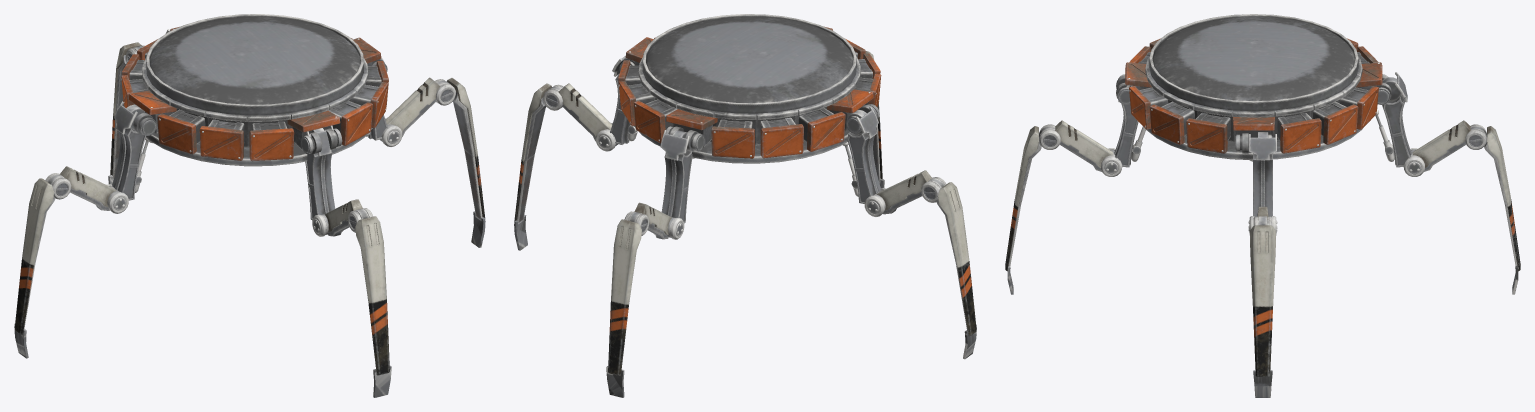
3 renders of one model, left to right at view 1: azimuth 30°, elevation 25°; view 2: azimuth 150°, elevation 25°; view 3: azimuth 270°, elevation 25°, orthographic. The views are drawn at different scales.
Visible parts, largest first — view 1: Base, Under, Middle, A_Top, B_Top, C_Top; view 2: Base, Under, Middle, D_Top, A_Top, C_Top; view 3: Base, Under, Middle, D_Top, C_Top, B_Top.
Boxes of the visible parts, left/top/right/bottom form: Base: left=121, top=14, right=388, bottom=166; Under: left=14, top=42, right=485, bottom=397; Middle: left=45, top=45, right=455, bottom=236; A_Top: left=106, top=101, right=145, bottom=213; B_Top: left=304, top=125, right=343, bottom=236; C_Top: left=366, top=57, right=402, bottom=146; Base: left=618, top=14, right=881, bottom=163; Under: left=514, top=51, right=976, bottom=397; Middle: left=543, top=83, right=946, bottom=239; D_Top: left=653, top=130, right=692, bottom=239; A_Top: left=847, top=106, right=886, bottom=216; C_Top: left=595, top=56, right=637, bottom=151; Base: left=1116, top=14, right=1391, bottom=161; Under: left=1005, top=125, right=1520, bottom=397; Middle: left=1039, top=120, right=1486, bottom=232; D_Top: left=1382, top=72, right=1424, bottom=176; C_Top: left=1249, top=132, right=1276, bottom=235; B_Top: left=1101, top=81, right=1140, bottom=176.
Size of the model in its own units: 20.2 by 10.49 by 20.2.
